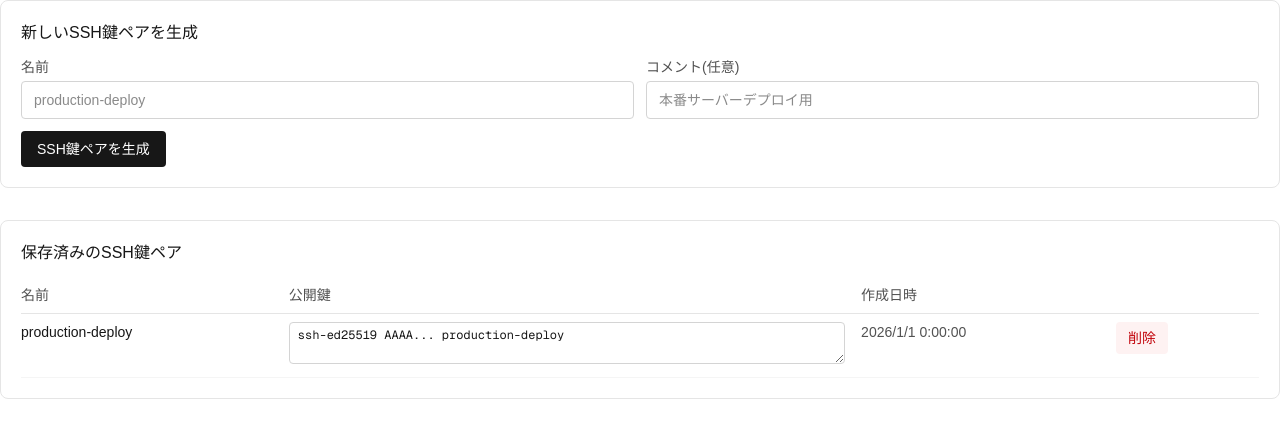
it: SshKeyPairsPanel › 削除確認を承認すると削除アクションを呼び、失敗時は行が残りエラーを表示する(issue #1361 AC3)
The image size is (1280, 448).
Click the button "削除".
click(1142, 338)  # box [1116,322,1168,354]
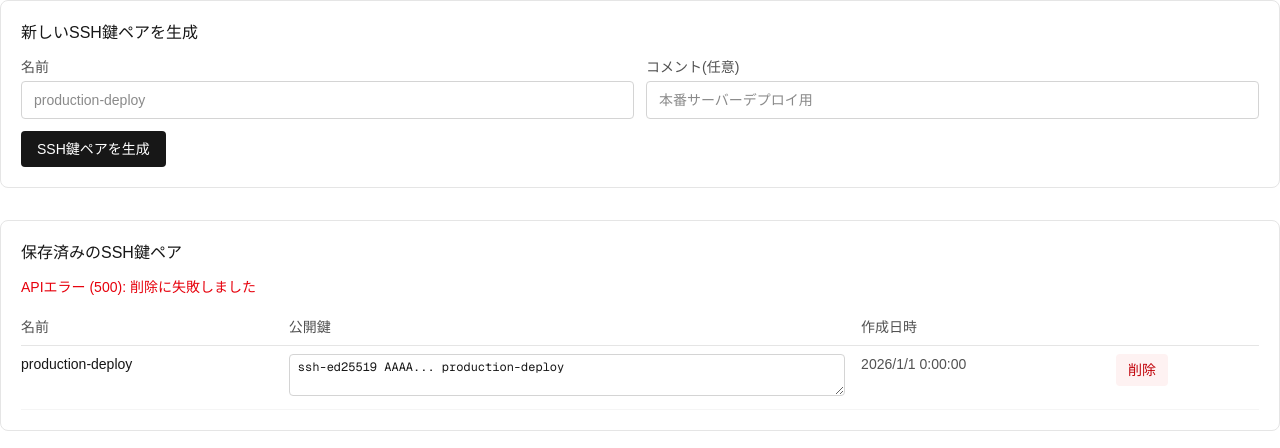
Expected: the text "production-deploy" is shown, [21,356,132,372]
Result: the text "APIエラー (500): 削除に失敗しました" is shown at [21,279,256,295]
